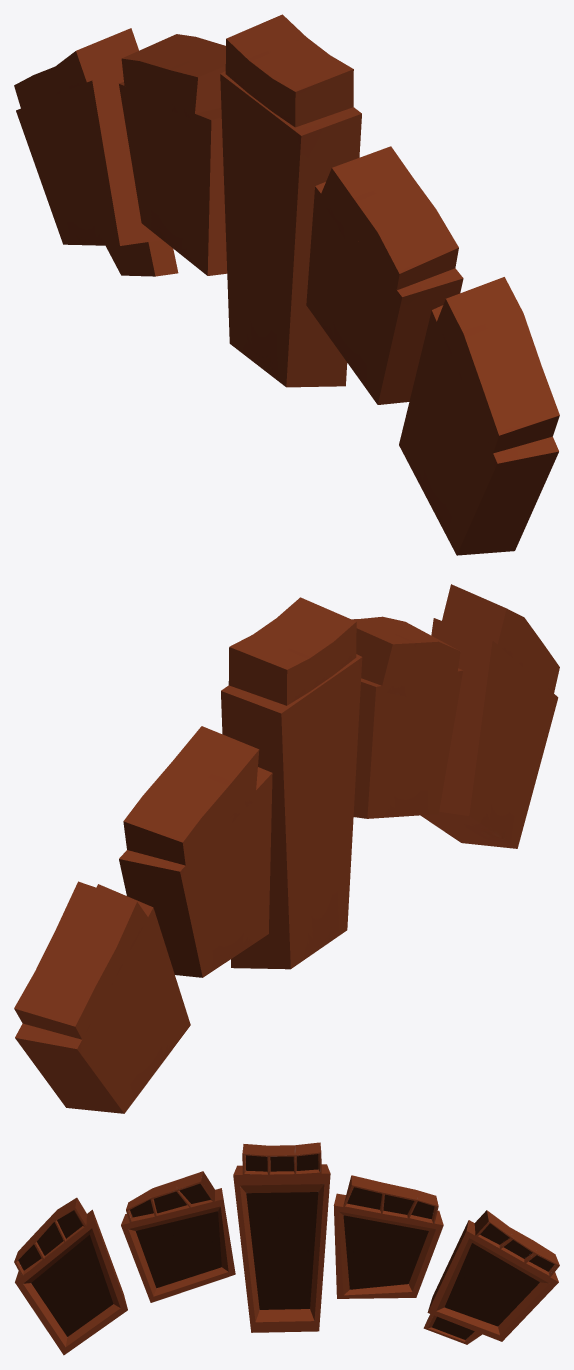
The model's file is levelCubes.fbx.
The picture shows the model from 3 angles, top to bottom: view 1: azimuth 30°, elevation 25°; view 2: azimuth 150°, elevation 25°; view 3: azimuth 270°, elevation 25°; orthographic projection. The views are drawn at different scales.
Visible parts, largest first — view 1: polySurface119; view 2: polySurface119; view 3: polySurface119.
Part boxes in pixels (bbox=[...]): polySurface119: bbox=[14, 14, 559, 555]; polySurface119: bbox=[14, 584, 559, 1113]; polySurface119: bbox=[14, 1142, 559, 1355].
Size of the model in its own units: 6.3 by 35.55 by 86.65.
